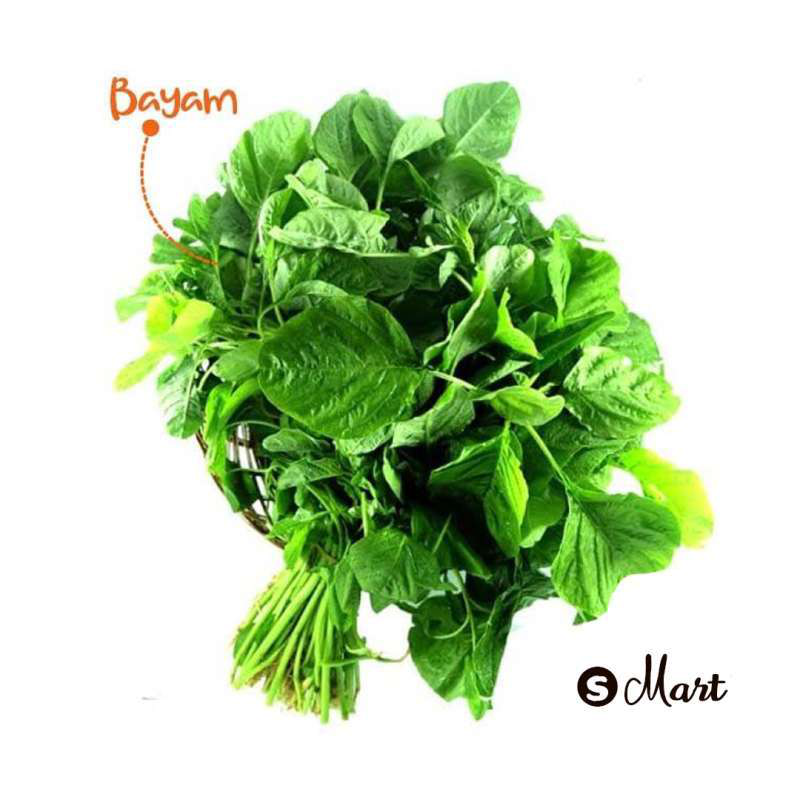Bayam: (77, 56, 763, 757)
